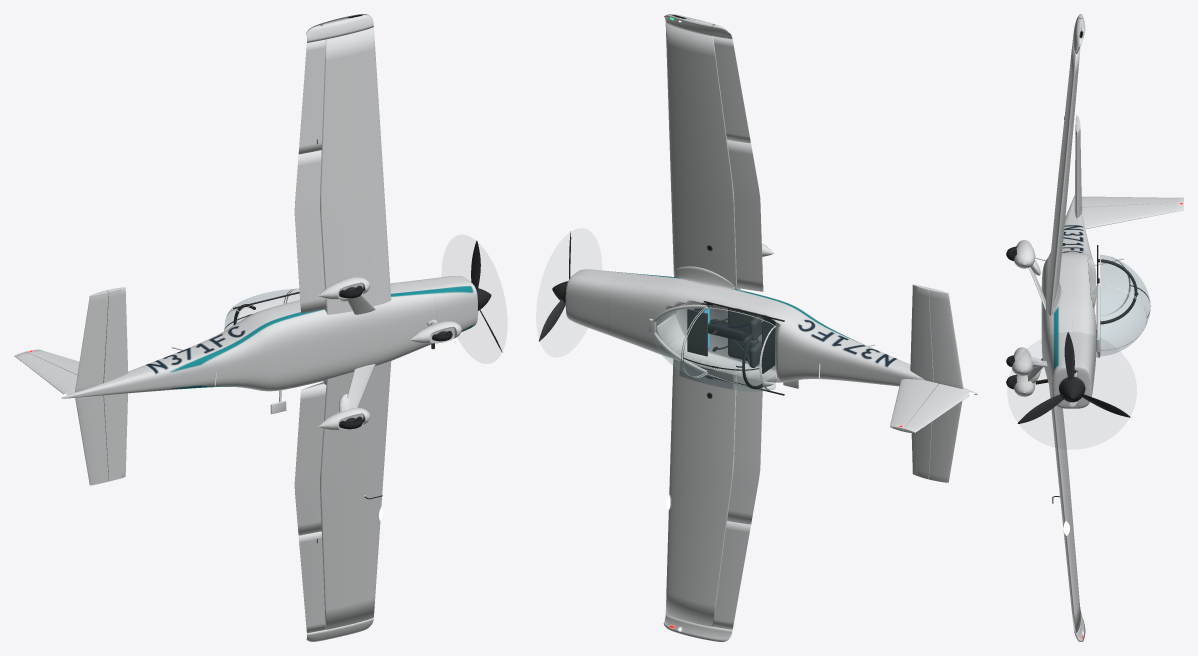
File: exterior.glb
3 views of the same model, side by side, from view 1: azimuth 30°, elevation 25°; view 2: azimuth 150°, elevation 25°; view 3: azimuth 270°, elevation 25° (orthographic).
Parts seen in each view (by area): view 1: airframe, wing_right, wing_left, flaps_right, flaps_left, aileron_right, elevator_right, aileron_left, elevator_left, stabilizer_right, stabilizer_left, wingtip_right (+4 smaller); view 2: airframe, wing_left, wing_right, canopy_glass, flaps_right, flaps_left, aileron_left, elevator_right, aileron_right, stabilizer_right, elevator_left, windshield (+8 smaller); view 3: airframe, wing_right, wing_left, windshield, fin, canopy_glass, propeller, rudder, stabilizer_right, wheel_fairing_1, wheel_fairing_2, spinner (+3 smaller).
Part boxes in pixels (x1,y1,x2,y2): airframe: (62,276,477,398); wing_right: (320,27,391,314); wing_left: (320,361,391,629); flaps_right: (294,150,326,313); flaps_left: (294,382,326,535); aileron_right: (298,39,325,154); elevator_right: (75,290,108,392); aileron_left: (298,531,325,633); elevator_left: (75,395,108,485); stabilizer_right: (103,287,128,382); stabilizer_left: (103,393,127,481); wingtip_right: (306,14,373,42); airframe: (565,269,977,394); wing_left: (665,359,736,626); wing_right: (665,23,740,289); canopy_glass: (683,308,775,391); flaps_right: (727,140,763,291); flaps_left: (727,375,762,524); aileron_left: (713,521,750,629); elevator_right: (929,288,963,388); aileron_right: (713,36,750,143); stabilizer_right: (910,284,933,382); elevator_left: (929,401,962,482); windshield: (652,307,703,374); airframe: (1041,195,1096,408); wing_right: (1047,40,1080,315); wing_left: (1049,385,1080,633); windshield: (1100,287,1146,355); fin: (1081,202,1183,228); canopy_glass: (1101,255,1149,325); propeller: (1017,332,1130,423); rudder: (1081,196,1183,207); stabilizer_right: (1074,124,1081,218); wheel_fairing_1: (1014,240,1040,275); wheel_fairing_2: (1012,347,1042,375); spinner: (1059,377,1085,402).
Size of the model in its own units: 6.67 by 9.16 by 2.45.
Materials: 16 (14 with a texture image).
